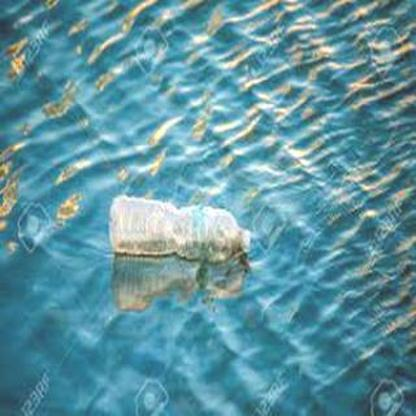plastic bottle: (109, 195, 251, 260)
